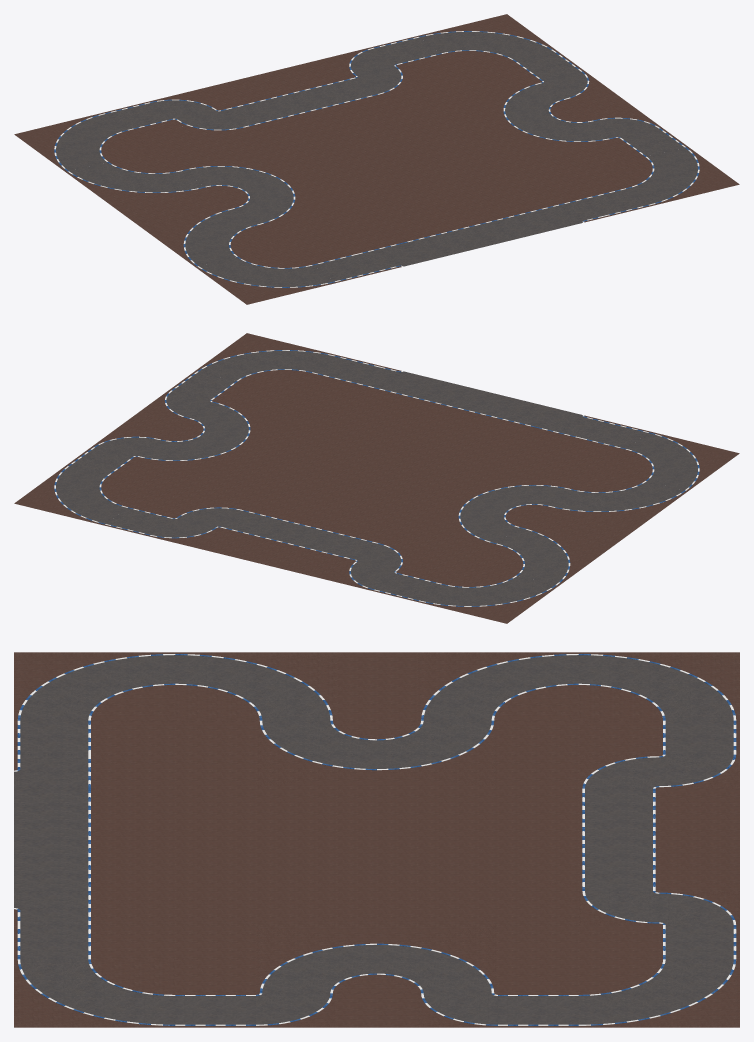
The model's file is Track_03.glb.
3 views of the same model, one above another, from view 1: azimuth 30°, elevation 25°; view 2: azimuth 150°, elevation 25°; view 3: azimuth 270°, elevation 25° (orthographic). The views are drawn at different scales.
Visible parts, largest first — view 1: Desert_mod04_turn180.001, Desert_mod04_turn180.004, Desert_mod03_turn90_big.009, Desert_mod03_turn90_big.008, Desert_mod03_turn90_big.012, Desert_mod03_turn90_big.010, Desert_mod03_turn90_big.001, Desert_mod03_turn90_big.011, Desert_mod00_empty.068, Desert_mod00_empty.057, Desert_mod00_empty.055, Desert_mod00_empty.054 (+59 smaller); view 2: Desert_mod04_turn180.001, Desert_mod04_turn180.004, Desert_mod03_turn90_big.012, Desert_mod03_turn90_big.001, Desert_mod03_turn90_big.011, Desert_mod03_turn90_big.009, Desert_mod03_turn90_big.008, Desert_mod03_turn90_big.010, Seaside_mod01_straight.002, Desert_mod00_empty.068, Desert_mod00_empty.066, Desert_mod00_empty.052 (+59 smaller); view 3: Desert_mod04_turn180.004, Desert_mod04_turn180.001, Desert_mod03_turn90_big.012, Desert_mod03_turn90_big.011, Desert_mod03_turn90_big.010, Desert_mod03_turn90_big.009, Desert_mod03_turn90_big.008, Desert_mod03_turn90_big.001, Desert_mod00_empty.058, Desert_mod00_empty.001, Desert_mod00_empty.060, Desert_mod00_empty.059 (+59 smaller).
Boxes of the visible parts, box(x1,y1,x2,y2) form: Desert_mod04_turn180.001: box(450, 82, 616, 160); Desert_mod04_turn180.004: box(181, 147, 347, 225); Desert_mod03_turn90_big.009: box(195, 245, 335, 304); Desert_mod03_turn90_big.008: box(418, 14, 558, 73); Desert_mod03_turn90_big.012: box(14, 112, 154, 171); Desert_mod03_turn90_big.010: box(143, 207, 284, 266); Desert_mod03_turn90_big.001: box(599, 147, 739, 206); Desert_mod03_turn90_big.011: box(66, 150, 206, 209); Desert_mod00_empty.068: box(238, 69, 308, 98); Desert_mod00_empty.057: box(259, 215, 329, 244); Desert_mod00_empty.055: box(464, 190, 534, 220); Desert_mod00_empty.054: box(509, 179, 579, 209); Desert_mod04_turn180.001: box(137, 401, 303, 479); Desert_mod04_turn180.004: box(406, 466, 572, 544); Desert_mod03_turn90_big.012: box(418, 564, 558, 623); Desert_mod03_turn90_big.001: box(195, 333, 335, 392); Desert_mod03_turn90_big.011: box(469, 526, 610, 585); Desert_mod03_turn90_big.009: box(599, 431, 739, 490); Desert_mod03_turn90_big.008: box(14, 466, 154, 525); Desert_mod03_turn90_big.010: box(547, 469, 687, 528); Seaside_mod01_straight.002: box(445, 388, 515, 417); Desert_mod00_empty.068: box(238, 539, 308, 568); Desert_mod00_empty.066: box(424, 534, 494, 563); Desert_mod00_empty.052: box(509, 428, 579, 458); Desert_mod04_turn180.004: box(256, 720, 497, 788); Desert_mod04_turn180.001: box(256, 925, 497, 993); Desert_mod03_turn90_big.012: box(578, 652, 739, 720); Desert_mod03_turn90_big.011: box(417, 652, 578, 720); Desert_mod03_turn90_big.010: box(175, 652, 336, 720); Desert_mod03_turn90_big.009: box(14, 652, 175, 720); Desert_mod03_turn90_big.008: box(578, 959, 739, 1027); Desert_mod03_turn90_big.001: box(14, 959, 175, 1027); Desert_mod00_empty.058: box(336, 652, 417, 686); Desert_mod00_empty.001: box(336, 993, 417, 1027); Desert_mod00_empty.060: box(578, 720, 659, 754); Desert_mod00_empty.059: box(336, 686, 417, 720).
Size of the model in its own units: 176 by 0.03 by 144.
Materials: 3 (3 with a texture image).
